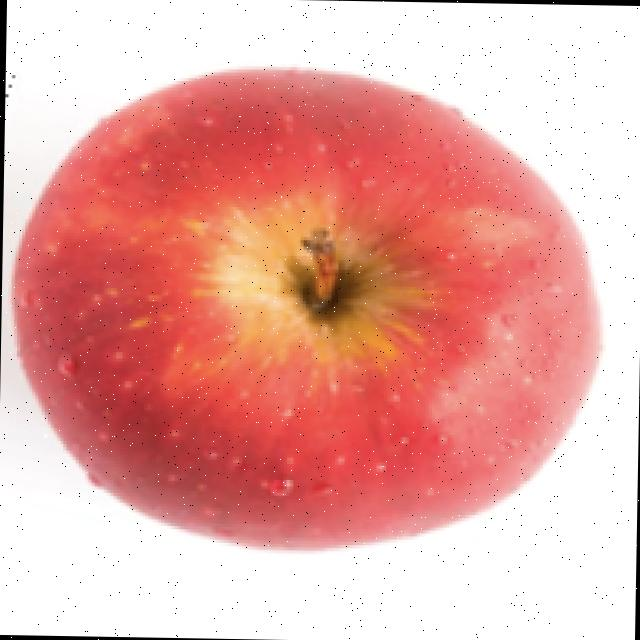apple: (2, 59, 608, 557)
